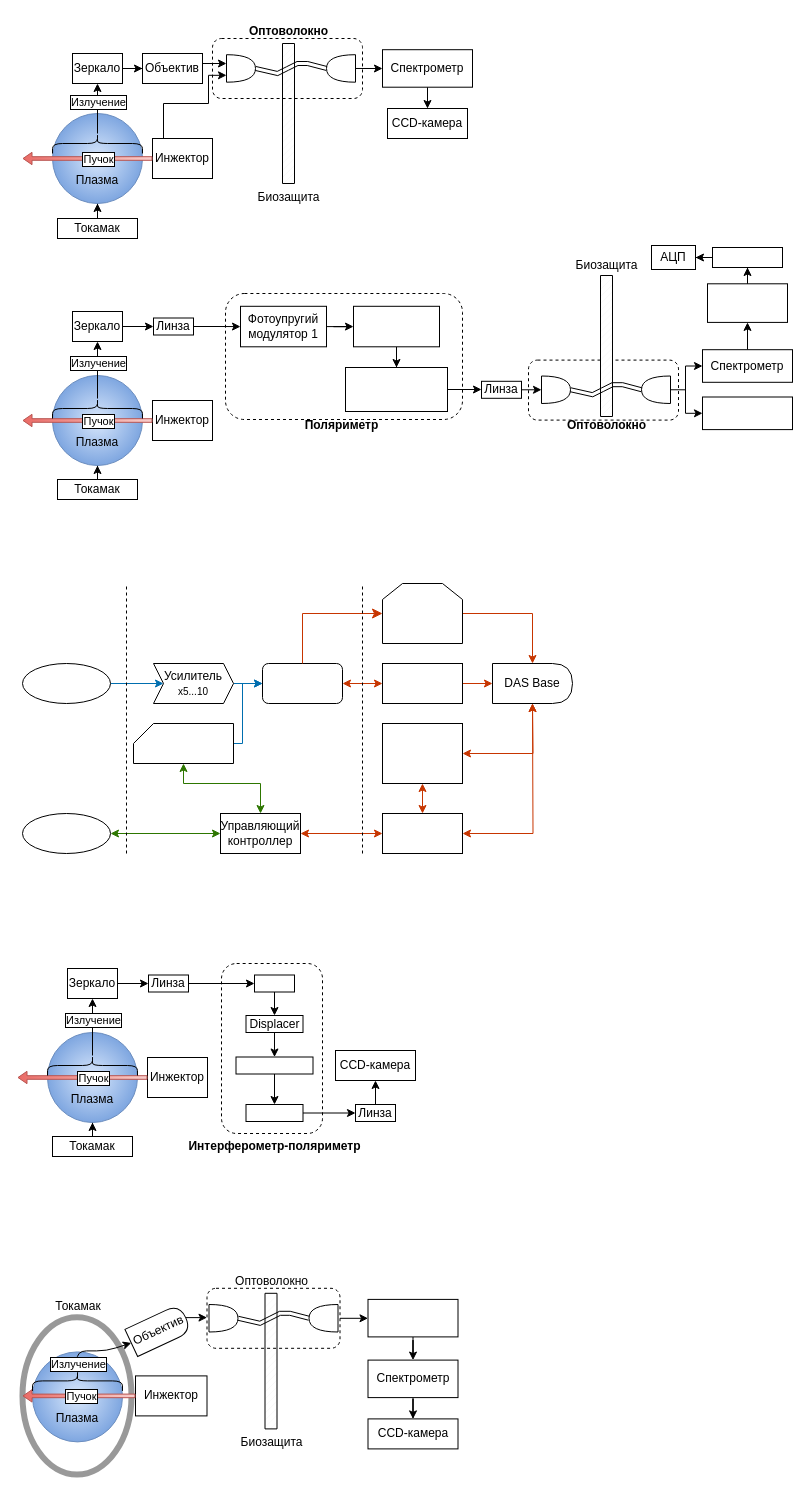
Some shapes in this 810 by 1495 pixel diagram are drawn without their labels. The shapes that lost their labels are listed below. From the top down, each one's box as (x1, y1, x2, y2) in pixels, then its label:
(712, 246, 782, 268): Усилитель
(706, 283, 788, 322): Лавинные фотодиоды
(352, 305, 440, 347): Фотоупругий модулятор 2
(344, 366, 448, 412): Линейно-поляризованный фильтр
(702, 396, 792, 430): Калибровочный спектрометр
(382, 582, 462, 644): ЦУП
(22, 662, 110, 704): APD 300 кГц
(262, 662, 342, 704): АЦП 16 бит, 2 Мсмпл/с
(382, 662, 462, 704): DAQ Сервер
(132, 722, 234, 764): PEM опорный сигнал
(382, 722, 462, 784): Расчетный сервер (GPU-node)
(22, 812, 110, 854): PEM контроллер
(382, 812, 462, 854): Сервер анализа
(254, 974, 294, 992): Savant
(235, 1056, 313, 1074): Delay plate
(245, 1104, 303, 1122): Polariser
(367, 1298, 458, 1337): Согласующая оптика
